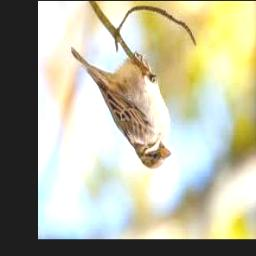Sparrow: (71, 45, 172, 170)
